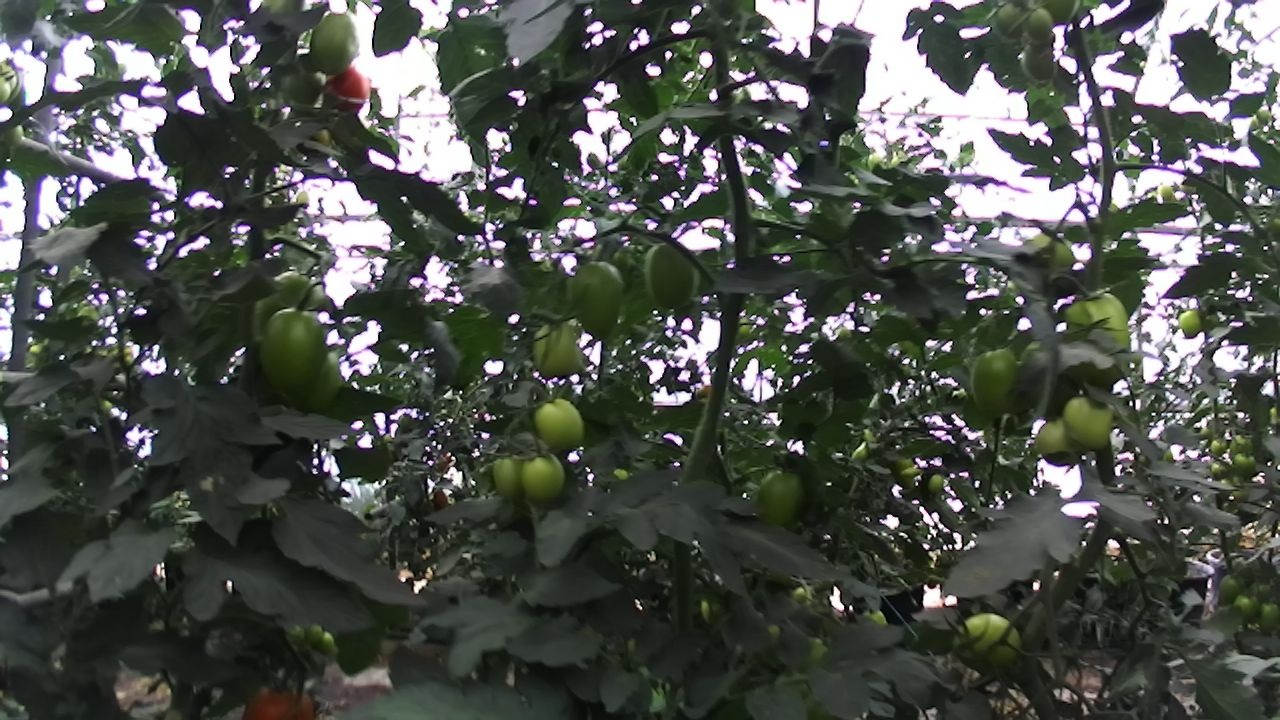tomato: (1049, 285, 1145, 399), (249, 292, 340, 412), (940, 601, 1037, 691), (563, 250, 634, 346), (959, 338, 1033, 430), (639, 229, 712, 319), (299, 0, 373, 86), (525, 385, 597, 461), (748, 458, 816, 537), (524, 313, 596, 386), (288, 344, 353, 423), (1026, 404, 1096, 474), (231, 671, 329, 720), (1056, 385, 1121, 457), (271, 42, 334, 113), (314, 53, 374, 125), (484, 442, 542, 513), (515, 445, 574, 512), (1012, 26, 1066, 92), (986, 0, 1037, 47), (1020, 2, 1063, 46), (1212, 566, 1254, 610), (1172, 302, 1212, 345), (1249, 594, 1280, 644), (1228, 588, 1266, 628), (1148, 176, 1188, 213), (1223, 429, 1259, 466), (887, 453, 921, 491), (1228, 448, 1263, 482), (919, 468, 951, 500), (301, 618, 330, 651), (1205, 432, 1234, 464), (426, 482, 454, 515), (1205, 457, 1234, 485), (290, 185, 317, 215), (314, 628, 339, 660), (1252, 105, 1276, 130)
